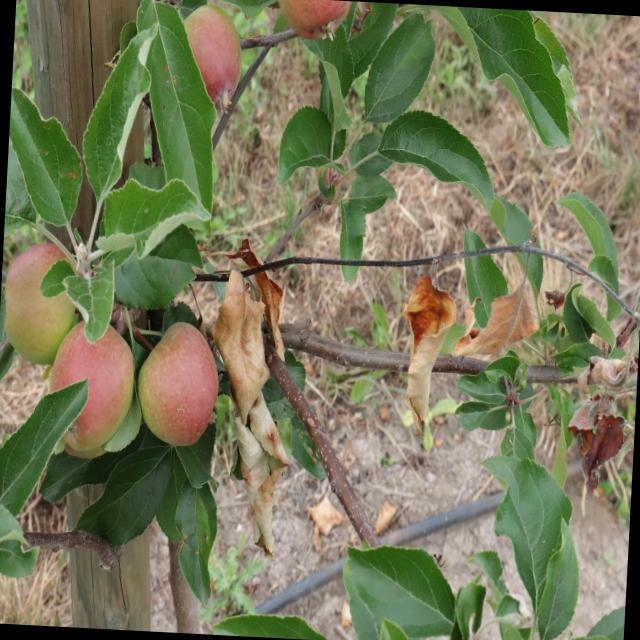-FireBlight-: (200, 265, 298, 551), (401, 255, 453, 451), (570, 342, 638, 484), (486, 247, 539, 362)
